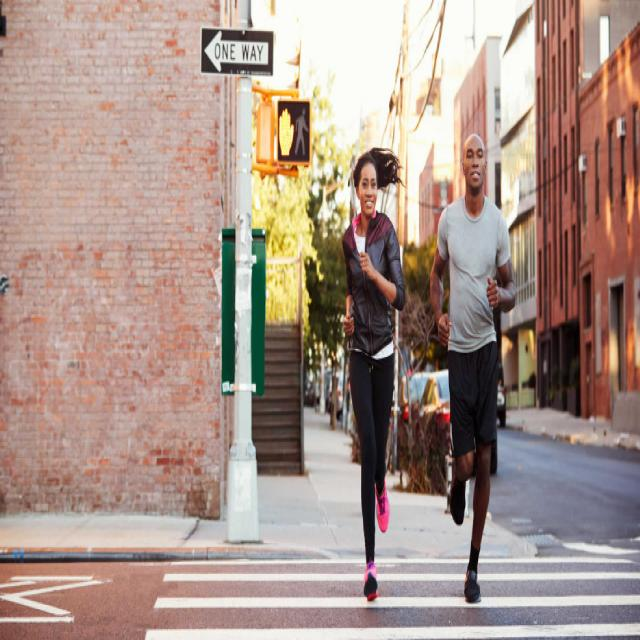Person: (432, 134, 516, 603), (343, 145, 406, 601)
